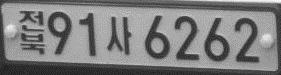1: (76, 12, 101, 56)
2: (234, 16, 259, 63), (174, 15, 200, 60)
6: (203, 17, 230, 61), (144, 15, 170, 59)
9: (47, 10, 73, 55)
사: (105, 16, 132, 55)
전북_V: (19, 10, 45, 55)
